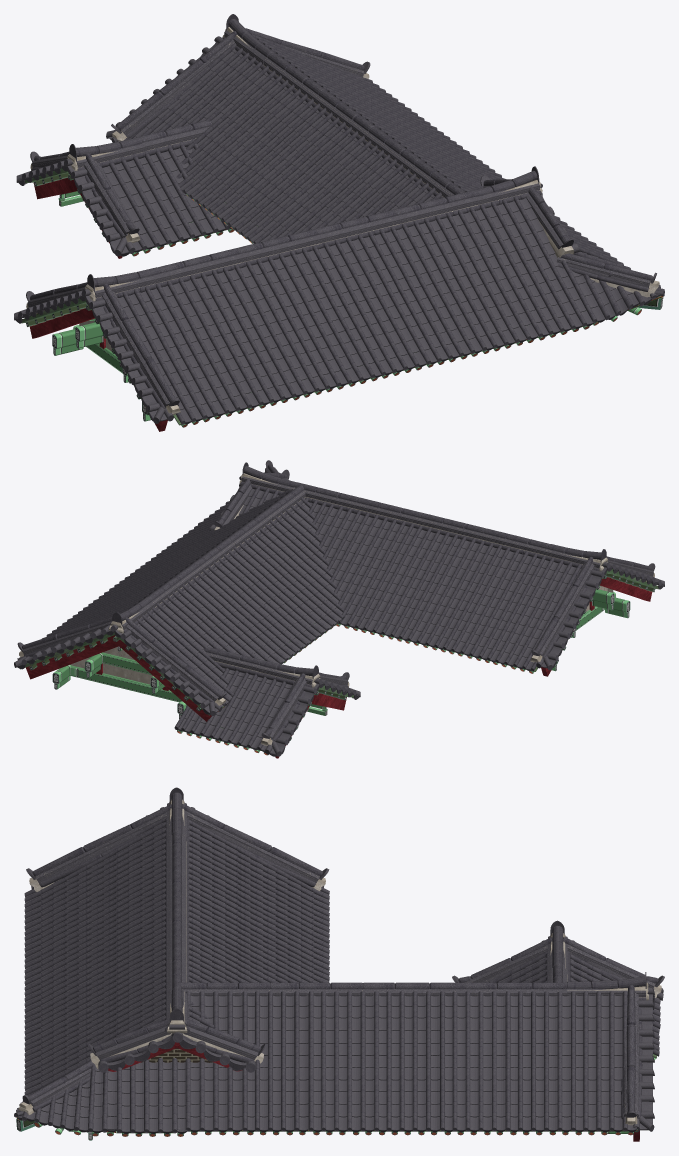
The model's file is SM_R_Boknaedang.fbx.
The picture shows the model from 3 angles, top to bottom: view 1: azimuth 30°, elevation 25°; view 2: azimuth 150°, elevation 25°; view 3: azimuth 270°, elevation 25°; orthographic projection. The views are drawn at different scales.
Parts seen in each view (by area): view 1: SM_R_Boknaedang; view 2: SM_R_Boknaedang; view 3: SM_R_Boknaedang.
Boxes of the visible parts, <box> form: SM_R_Boknaedang: <box>14,14,664,431</box>; SM_R_Boknaedang: <box>14,460,664,758</box>; SM_R_Boknaedang: <box>14,787,664,1141</box>.
Size of the model in its own units: 1877 by 2039 by 474.
Materials: 8 (8 with a texture image).
